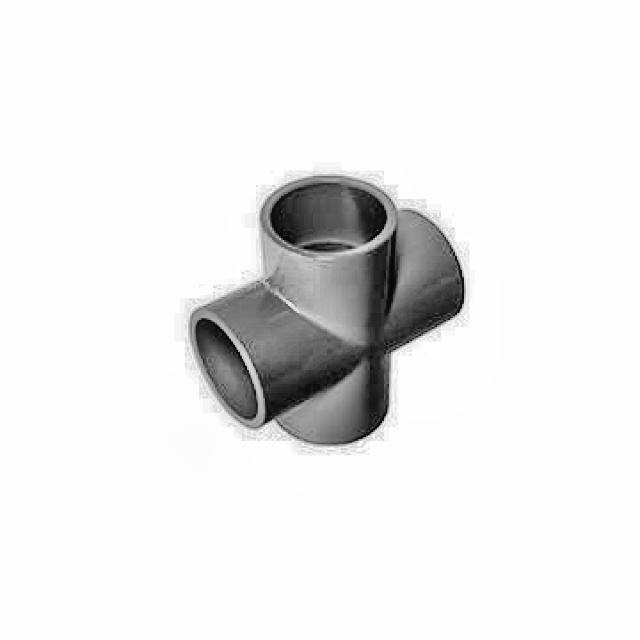EQUALCROSS: (188, 176, 468, 448)
